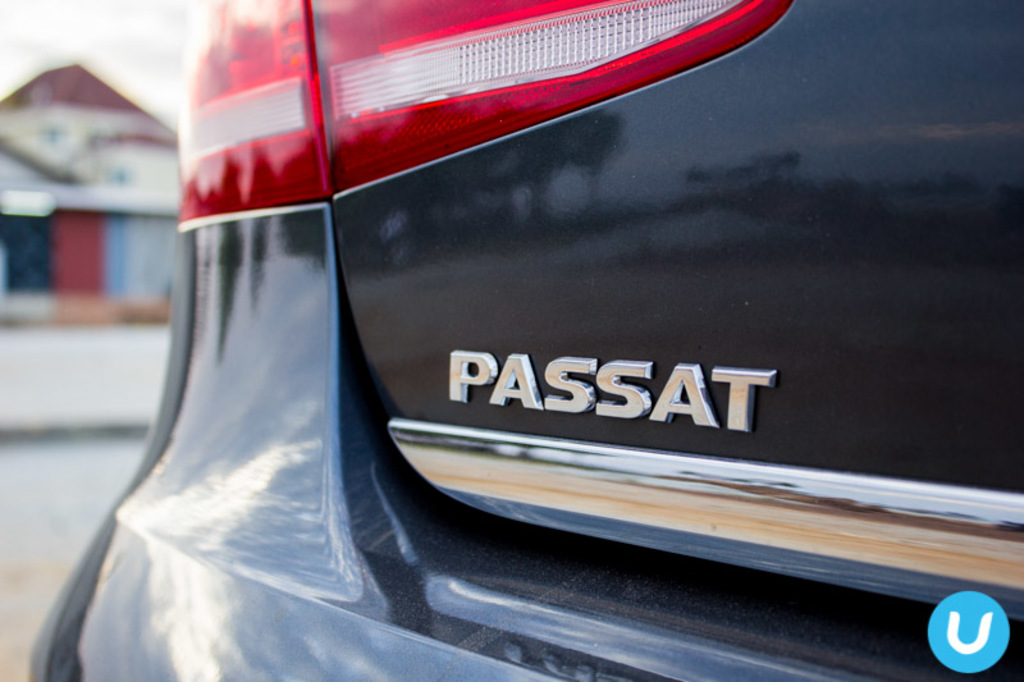Car: (23, 29, 988, 652)
